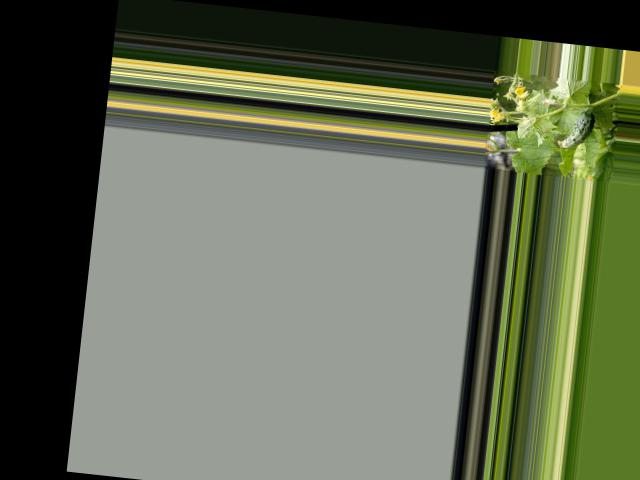cucumber: (556, 107, 595, 151)
